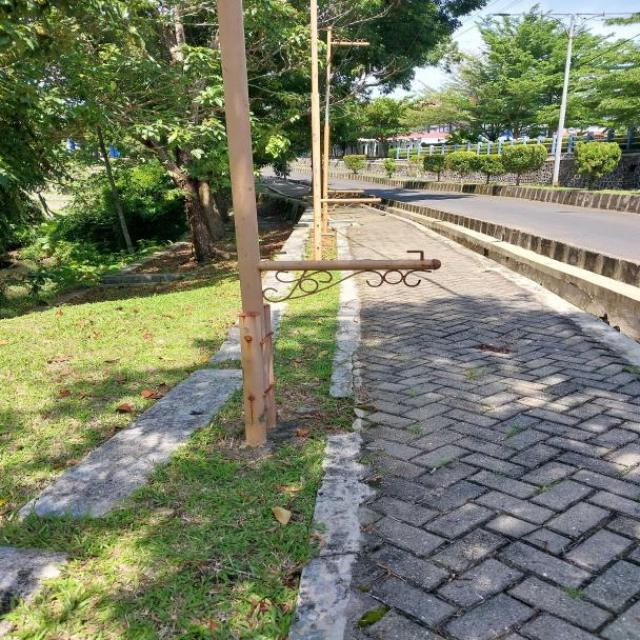electric pole ahead at: (208, 0, 425, 441)
